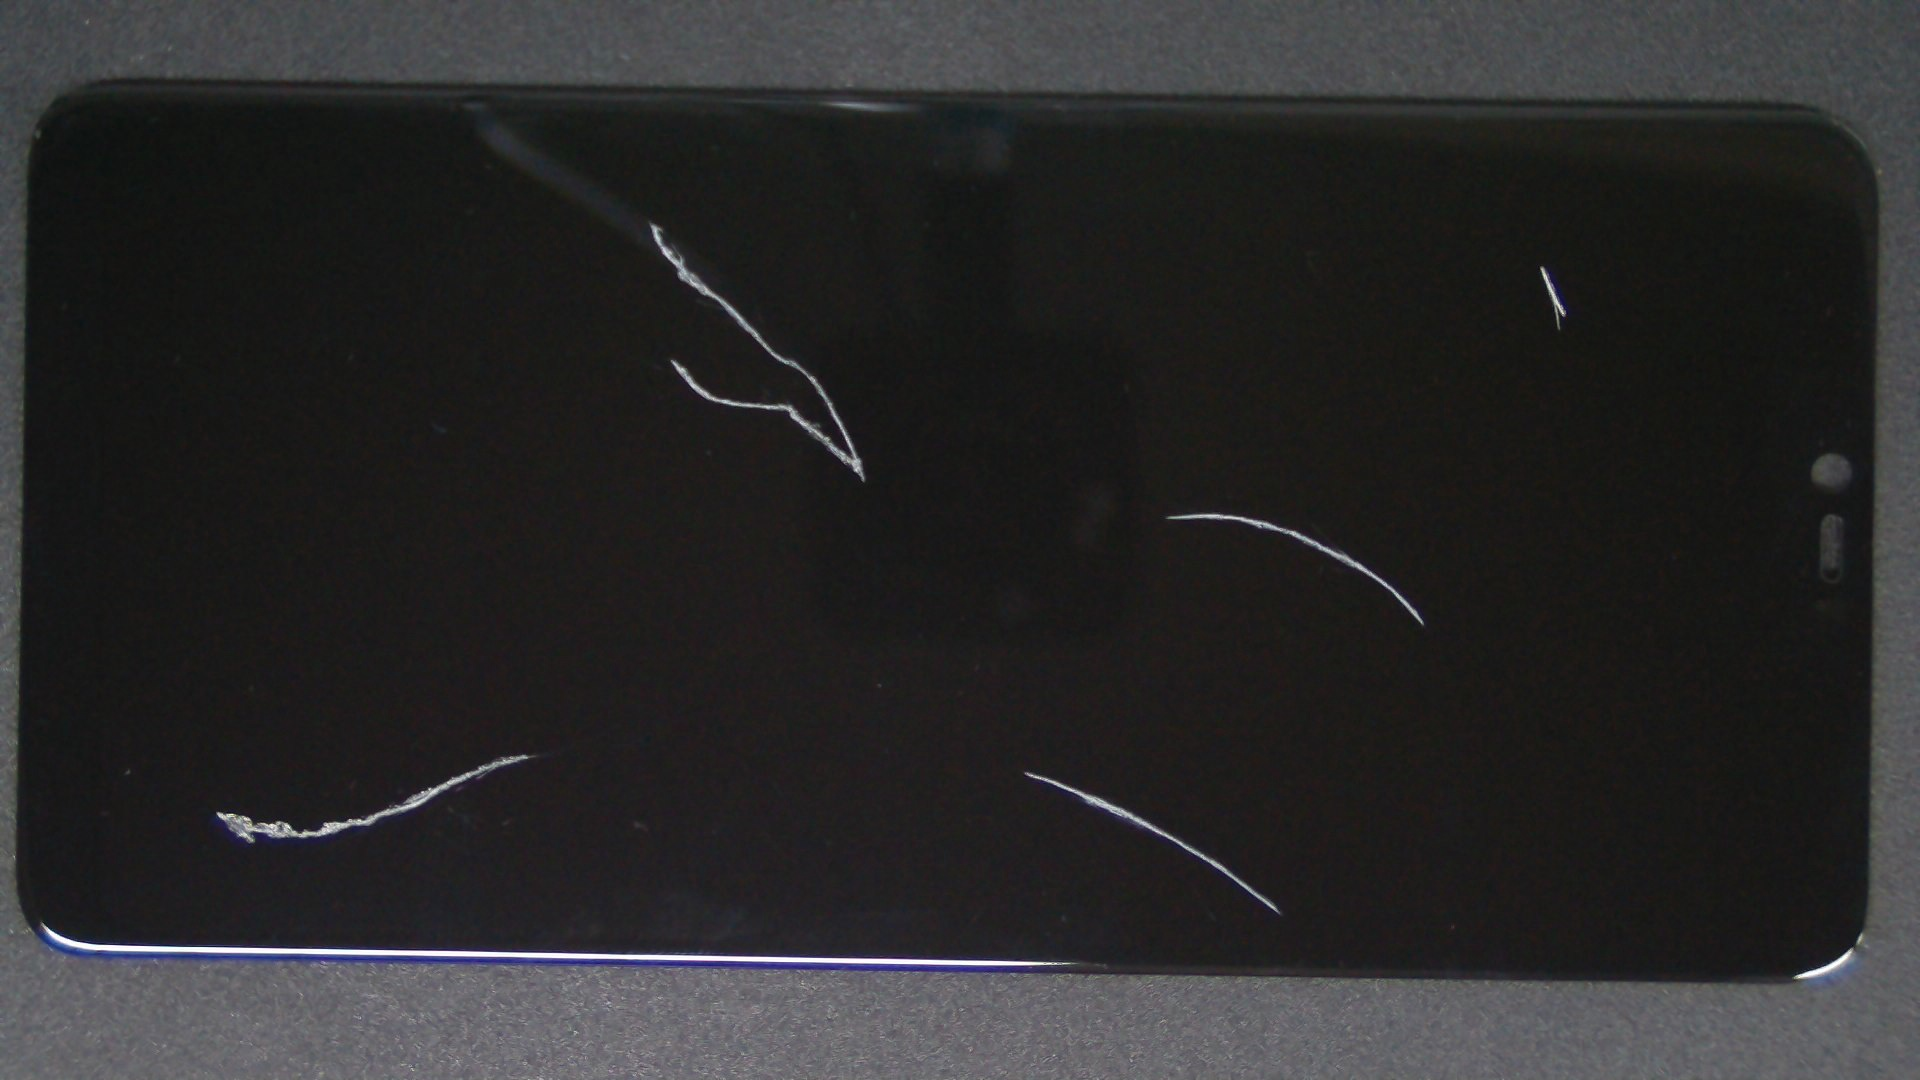oil: (514, 385, 1542, 1080), (600, 256, 1797, 769), (262, 376, 786, 1080), (770, 131, 1920, 400), (323, 108, 971, 331)
